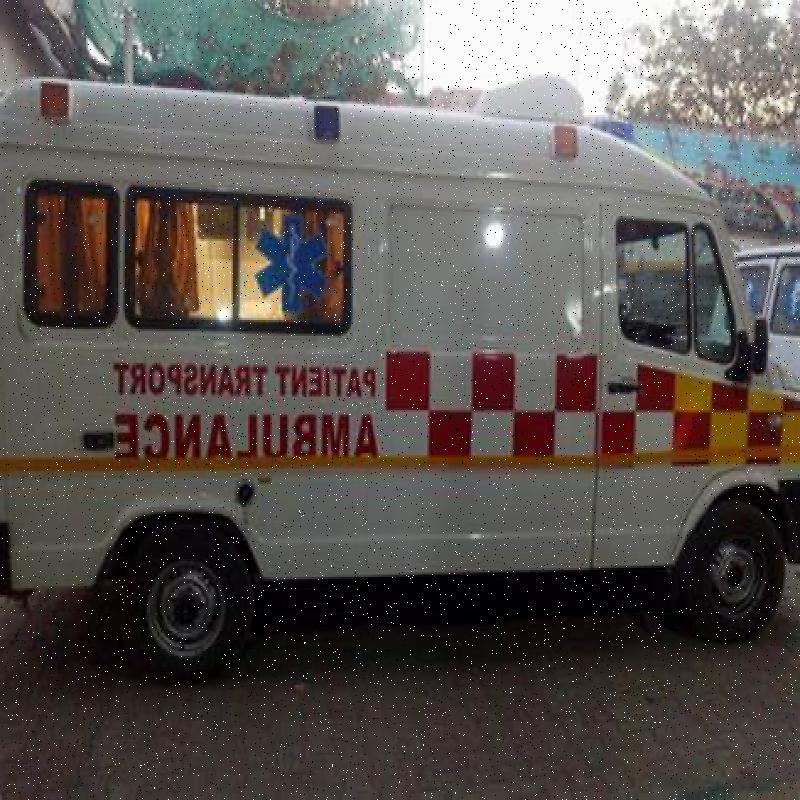AmbulanceSiren: (532, 102, 610, 186), (290, 90, 357, 165), (39, 66, 95, 151)
